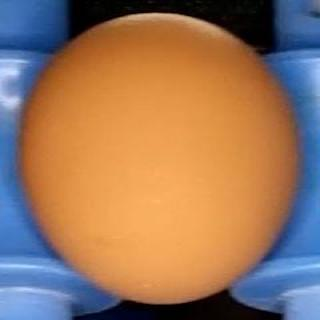Telur: (13, 11, 309, 307)
